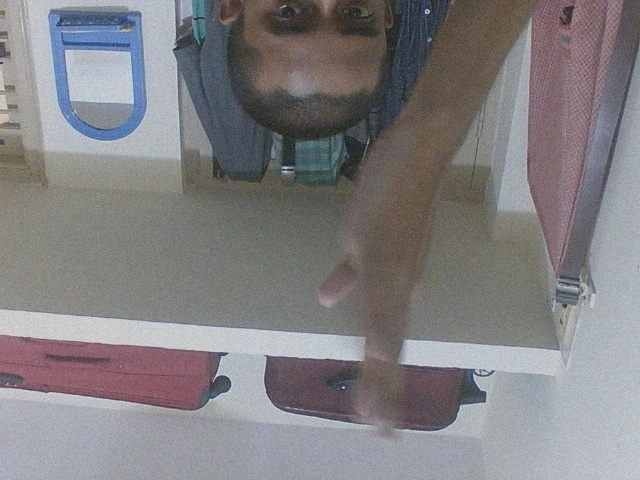hand: (313, 110, 455, 443)
